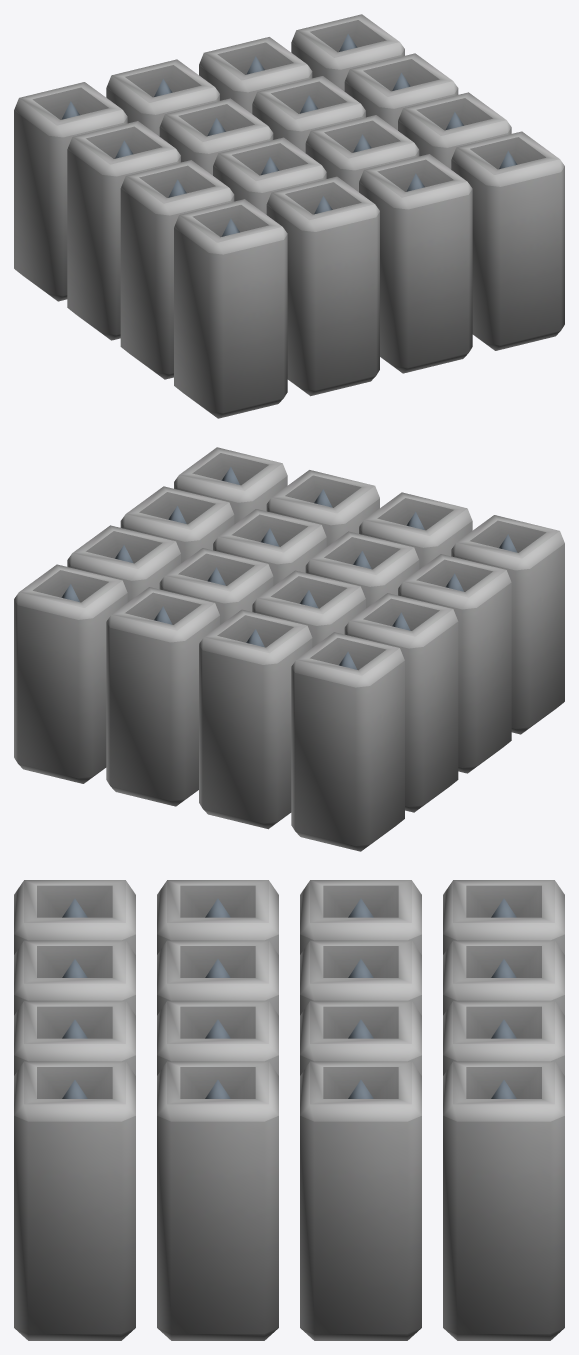
The model's file is spike_trap.fbx.
3 views of the same model, one above another, from view 1: azimuth 30°, elevation 25°; view 2: azimuth 150°, elevation 25°; view 3: azimuth 270°, elevation 25° (orthographic). The views are drawn at different scales.
Parts seen in each view (by area): view 1: spike_trap, spikes; view 2: spike_trap, spikes; view 3: spike_trap, spikes.
Boxes of the visible parts, x1,y1,x2,y2 form: spike_trap: [14, 14, 564, 418]; spikes: [61, 34, 517, 236]; spike_trap: [14, 447, 564, 851]; spikes: [61, 467, 517, 669]; spike_trap: [14, 880, 564, 1340]; spikes: [62, 898, 516, 1098].
Size of the model in its own units: 193 by 93.25 by 193.
Materials: 1 (1 with a texture image).
